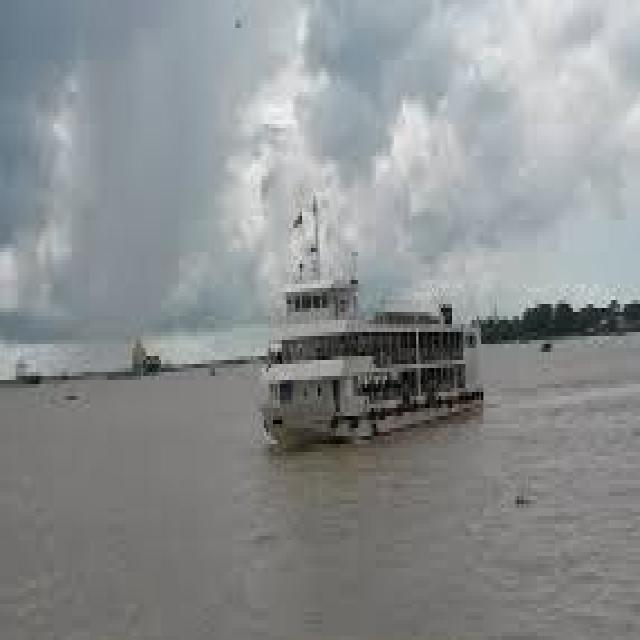passenger ship: (238, 241, 481, 438)
